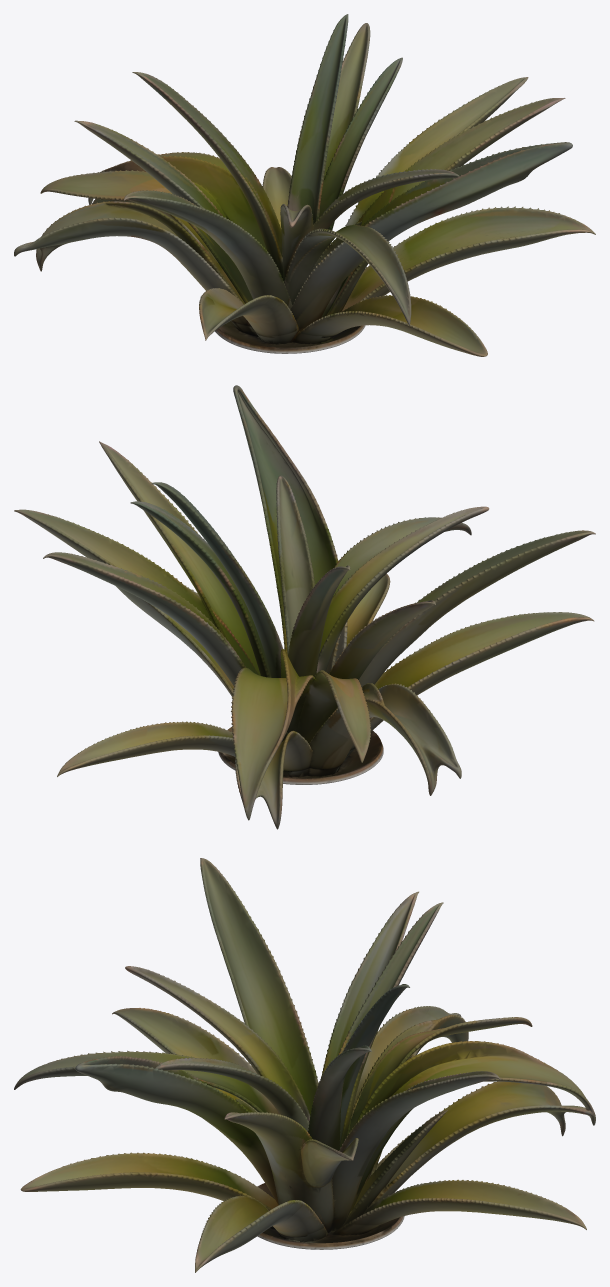
File: dankezhizhu-v1.glb
The picture shows the model from 3 angles, top to bottom: view 1: azimuth 30°, elevation 25°; view 2: azimuth 150°, elevation 25°; view 3: azimuth 270°, elevation 25°; orthographic projection. The views are drawn at different scales.
Parts seen in each view (by area): view 1: node_0; view 2: node_0; view 3: node_0.
Part boxes in pixels (bbox=[...]): node_0: bbox=[14, 14, 595, 356]; node_0: bbox=[14, 385, 595, 829]; node_0: bbox=[14, 858, 595, 1272].
Size of the model in its own units: 1.06 by 0.5878 by 1.03.
1 material, 1 textured.
